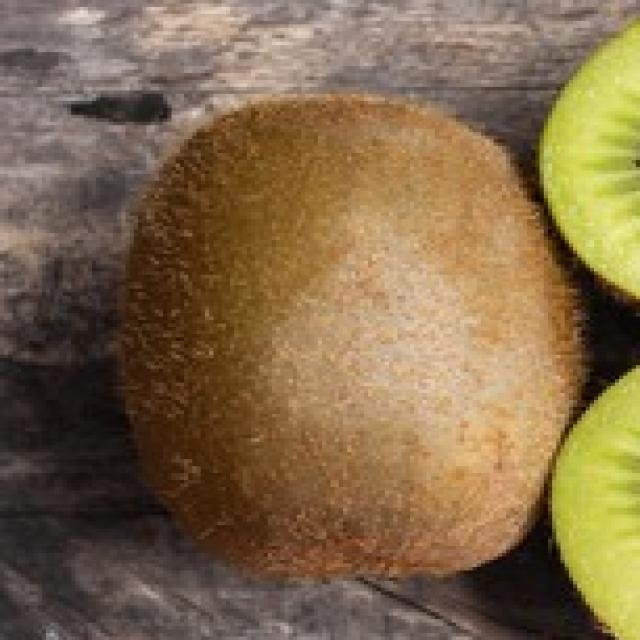kiwi: (125, 94, 586, 579)
